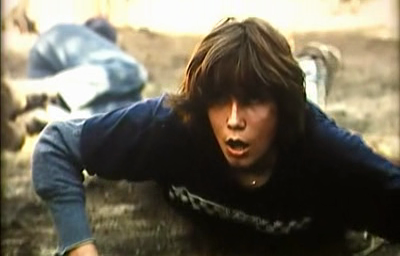face: (204, 84, 277, 167)
mcu: (1, 1, 400, 256)
person: (31, 14, 400, 256)
